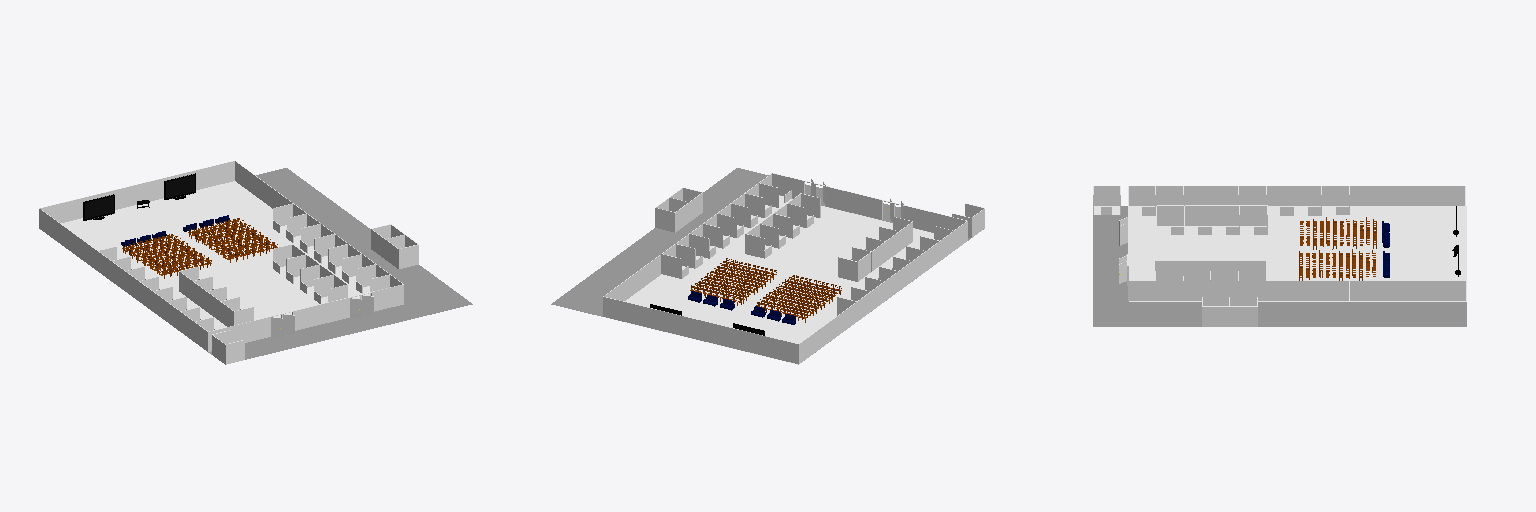
File: Denah Loka 7.obj
3 renders of one model, left to right at view 1: azimuth 30°, elevation 25°; view 2: azimuth 150°, elevation 25°; view 3: azimuth 270°, elevation 25°, orthographic.
Visible parts, largest first — view 1: room_98_578, ground_1, room_102_582, wall_65_389, wall_61_365, wall_68_401, wall_67_395, room_101_581, wall_60_359, room_100_580, wall_63_376, wall_64_382; view 2: room_98_578, ground_1, wall_65_388, wall_61_364, wall_67_394, wall_68_401, room_101_581, wall_60_358, room_100_580, wall_63_376, wall_64_382; view 3: room_98_578, ground_1, wall_68_400, room_102_582, room_100_580, room_101_581, wall_63_377, wall_64_383, wall_19_112, wall_22_130, wall_32_190, wall_37_220 (+14 smaller).
Boxes of the visible parts, x1,y1,x2,y2 form: room_98_578: [61, 181, 369, 329]; ground_1: [40, 168, 472, 359]; room_102_582: [77, 190, 213, 232]; wall_65_389: [40, 174, 180, 222]; wall_61_365: [294, 298, 348, 330]; wall_68_401: [235, 161, 291, 208]; wall_67_395: [181, 161, 234, 189]; room_101_581: [182, 219, 272, 265]; wall_60_359: [228, 317, 269, 342]; room_100_580: [117, 235, 215, 281]; wall_63_376: [66, 228, 96, 269]; wall_64_382: [39, 209, 65, 247]; room_98_578: [605, 195, 933, 364]; ground_1: [551, 168, 983, 364]; wall_65_388: [658, 310, 798, 363]; wall_61_364: [827, 187, 881, 219]; wall_67_394: [603, 297, 657, 329]; wall_68_401: [604, 255, 660, 300]; room_101_581: [682, 264, 781, 309]; wall_60_358: [905, 206, 947, 232]; room_100_580: [747, 280, 846, 325]; wall_63_376: [826, 302, 856, 343]; wall_64_382: [799, 325, 825, 363]; room_98_578: [1129, 206, 1466, 301]; ground_1: [1093, 206, 1466, 326]; wall_68_400: [1350, 281, 1465, 300]; room_102_582: [1430, 224, 1464, 280]; room_100_580: [1295, 224, 1385, 250]; room_101_581: [1295, 256, 1385, 282]; wall_63_377: [1350, 186, 1411, 205]; wall_64_383: [1412, 186, 1464, 205]; wall_19_112: [1128, 281, 1155, 300]; wall_22_130: [1156, 281, 1183, 300]; wall_32_190: [1294, 281, 1321, 300]; wall_37_220: [1202, 307, 1229, 326].
Bounding box in the file's own units: 3157 × 249 × 4115.